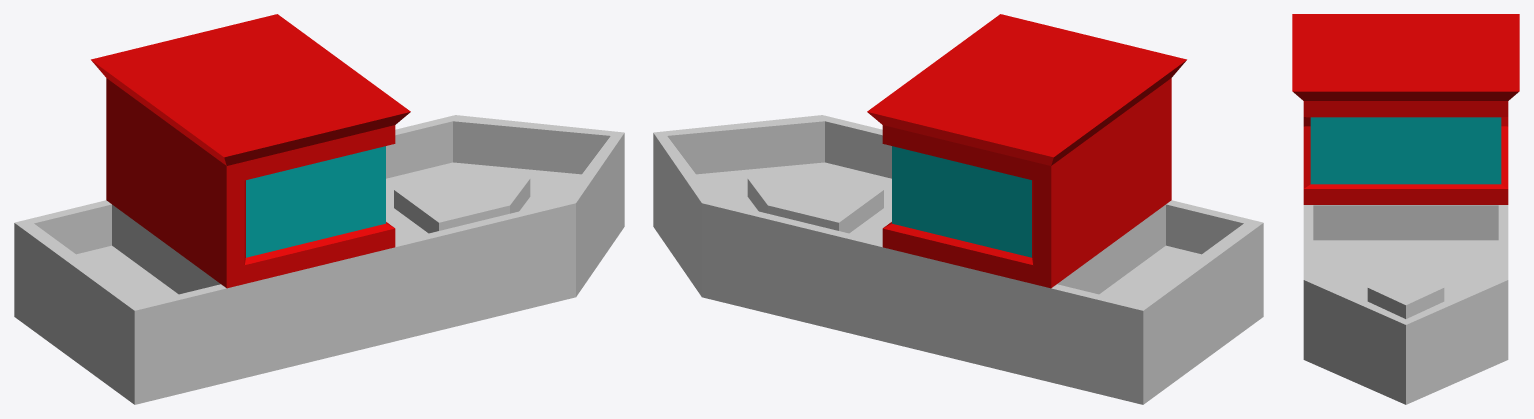
Rendered from boat1.fbx.
3 views of the same model, side by side, from view 1: azimuth 30°, elevation 25°; view 2: azimuth 150°, elevation 25°; view 3: azimuth 270°, elevation 25° (orthographic). The views are drawn at different scales.
Parts seen in each view (by area): view 1: boat1; view 2: boat1; view 3: boat1.
Boxes of the visible parts, x1,y1,x2,y2 form: boat1: (14, 14, 624, 404); boat1: (653, 14, 1263, 404); boat1: (1292, 14, 1519, 404).
Size of the model in its own units: 6.12 by 2.47 by 2.57.
